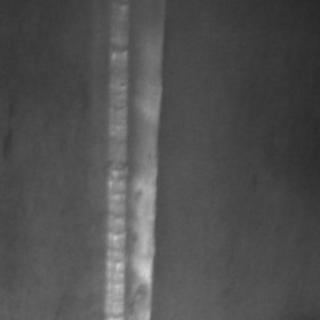scratches: (98, 0, 170, 316)
